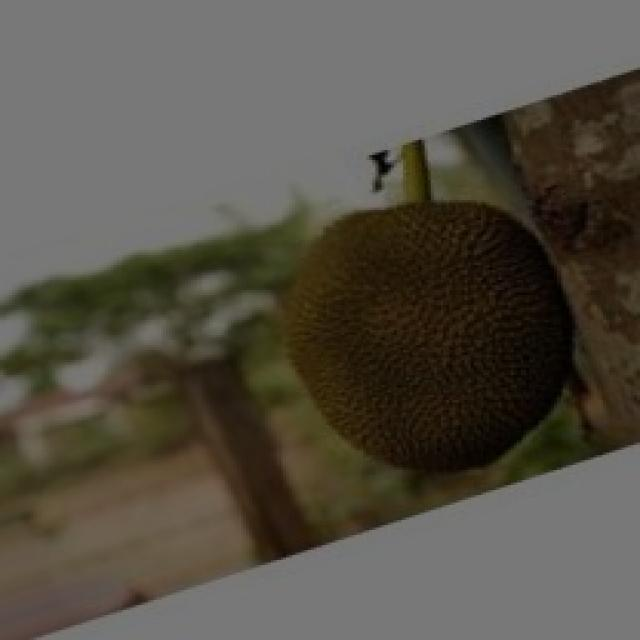Fruit: (246, 177, 600, 505)
